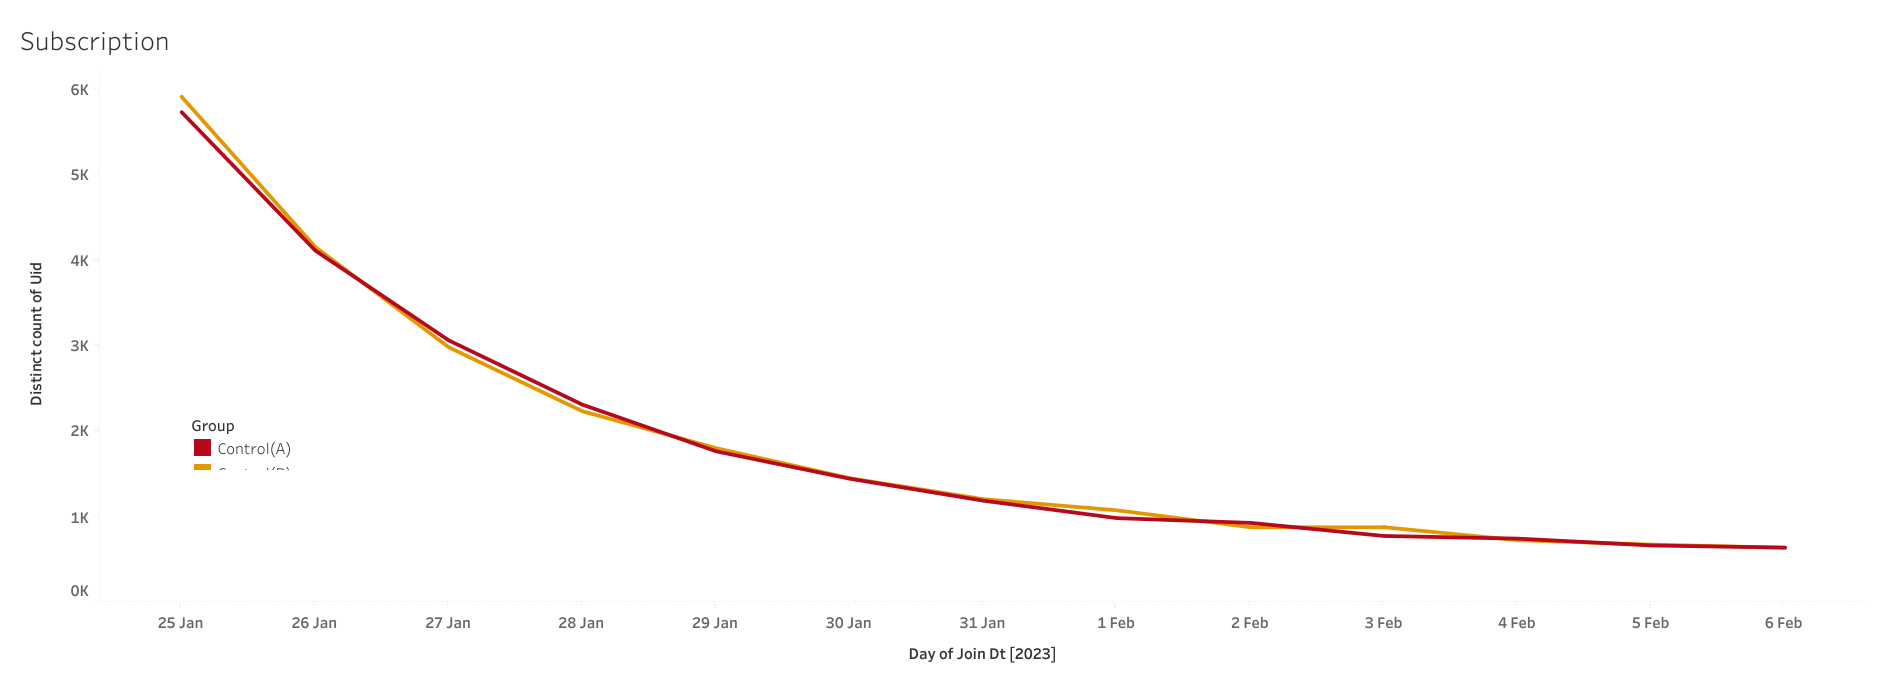

Layout of this report page (visuals, bound fields, positions):
{"tool":"tableau","page":{"name":"Over Time","canvas":[1000,1000],"units":"permille","ordinal":1},"visuals":[{"type":"worksheet","title":"How it did over time","mark":"Automatic","rows":["spent"],"cols":["dt"],"box":[6,11.8,987.9,976.4]}]}

Visuals, with their boxes on the dashboard's canvas, which has no fixed pixel size, in thousandths of its width and height (x1, y1, x2, y2). These are canvas units, not pixel positions in the 1880x686 screenshot, which may show the page scaled, cropped or inside an application window:
"How it did over time" worksheet: 6 12 994 988
